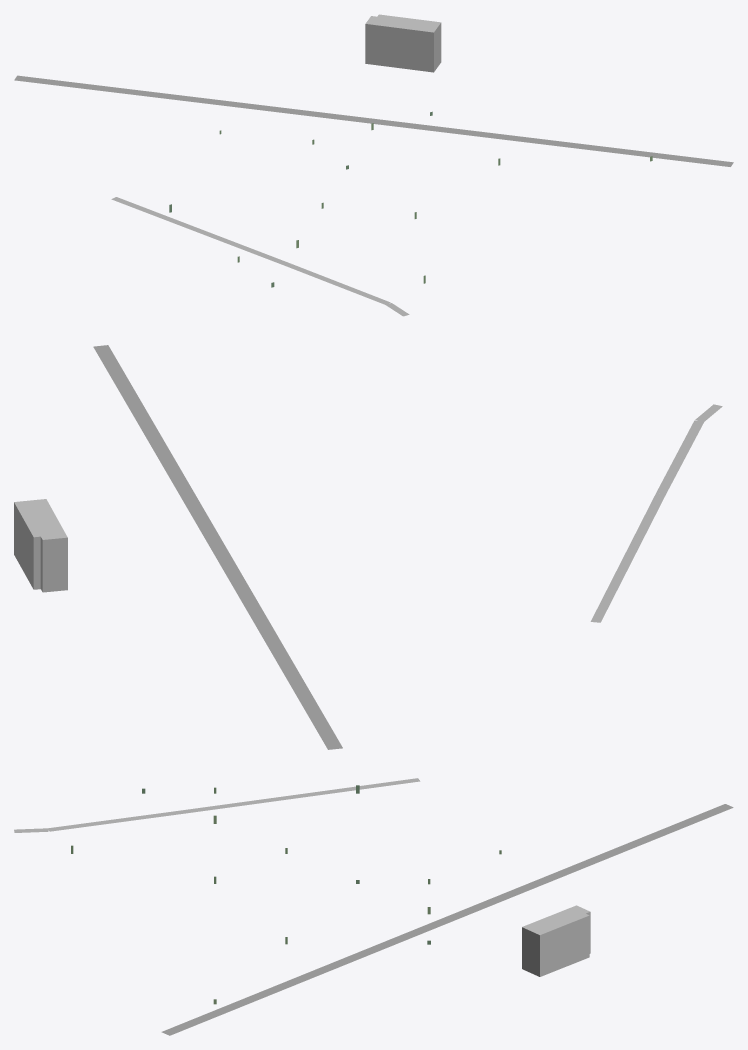
3 renders of one model, top to bottom at view 1: azimuth 30°, elevation 25°; view 2: azimuth 150°, elevation 25°; view 3: azimuth 270°, elevation 25°, orthographic. The views are drawn at different scales.
Bounding box in the file's own units: 514 × 39.09 × 605.
